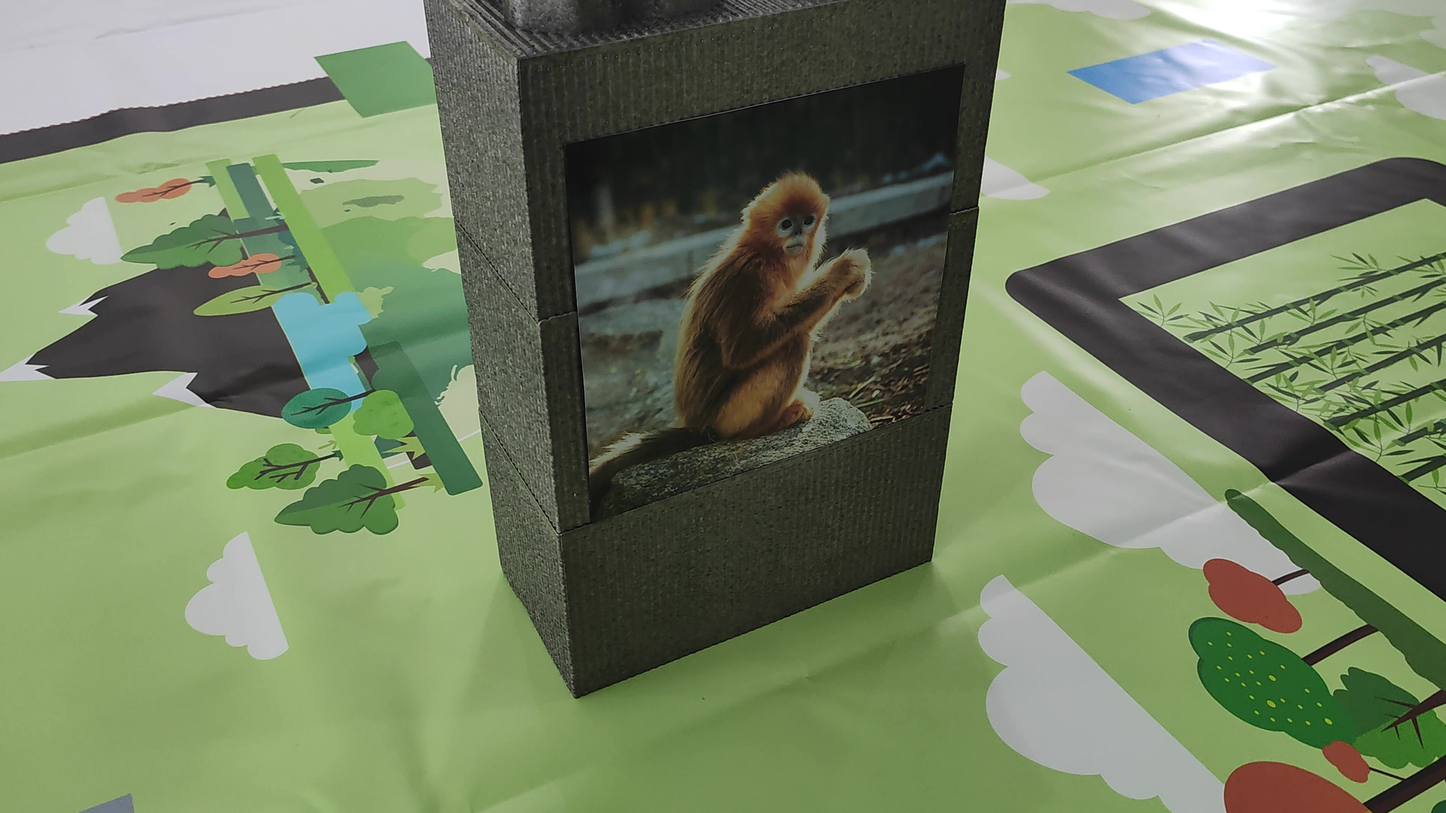monkey: (589, 162, 883, 467)
